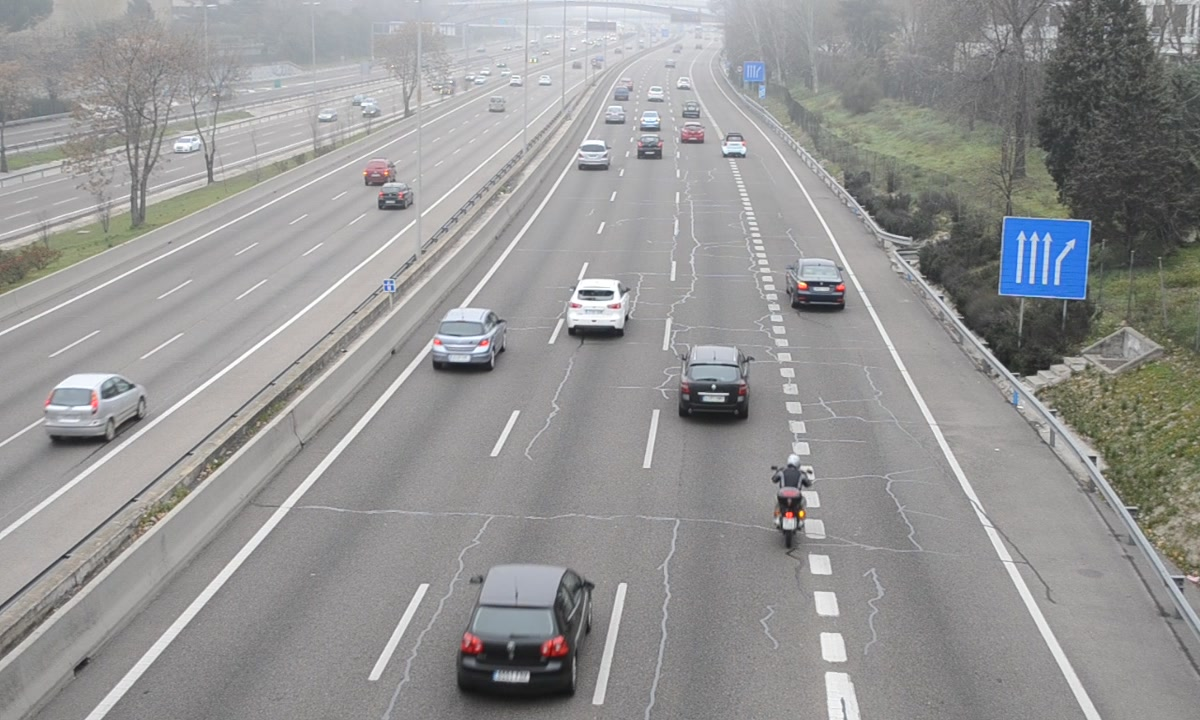car: (456, 562, 591, 699), (679, 343, 751, 418), (432, 307, 504, 364), (567, 278, 628, 330), (788, 259, 847, 309), (577, 139, 612, 171), (721, 131, 747, 158), (637, 133, 663, 160), (680, 120, 707, 145)
motorcycle: (771, 454, 816, 550)
